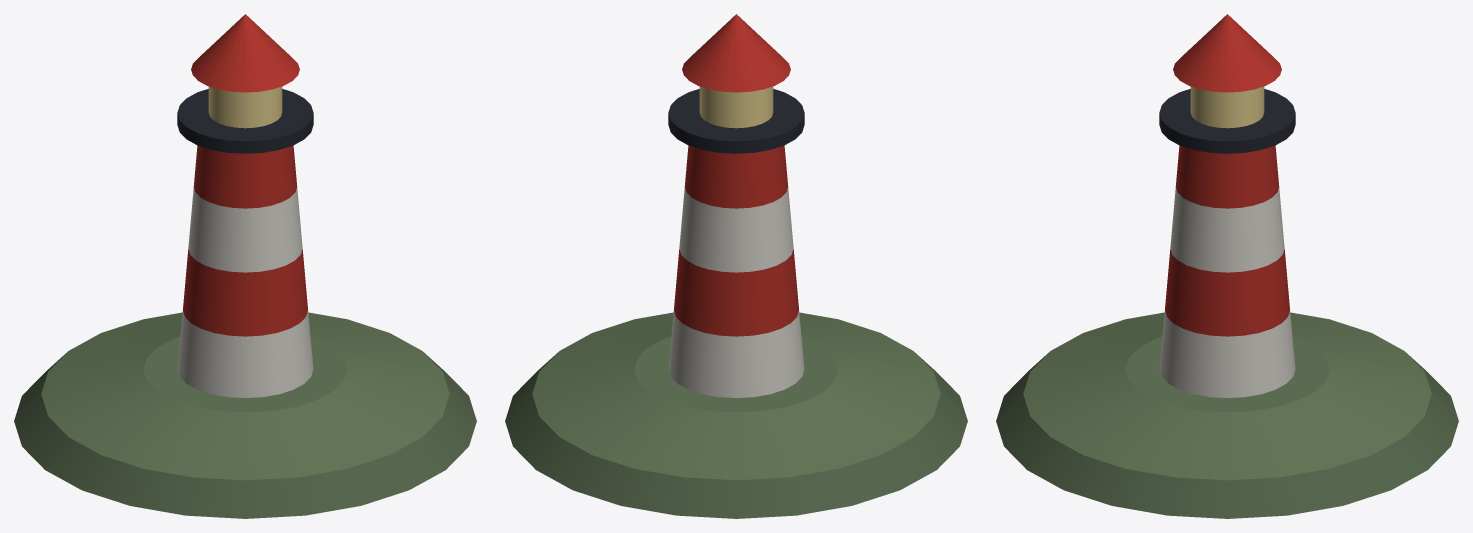
The model's file is lighthouse.glb.
The picture shows the model from 3 angles, left to right: view 1: azimuth 30°, elevation 25°; view 2: azimuth 150°, elevation 25°; view 3: azimuth 270°, elevation 25°; orthographic projection.
Parts seen in each view (by area): view 1: lighthouse; view 2: lighthouse; view 3: lighthouse.
Boxes of the visible parts, bbox=[...] form: lighthouse: bbox=[14, 14, 476, 518]; lighthouse: bbox=[505, 14, 967, 518]; lighthouse: bbox=[996, 14, 1458, 518].
Bounding box in the file's own units: 3.4 × 3.3 × 3.4.
